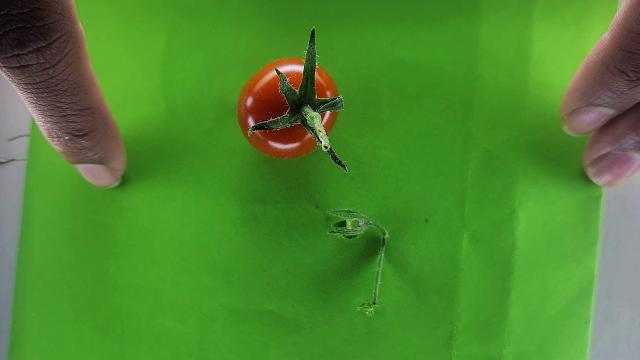Fruit Bud: (331, 219, 363, 239), (345, 218, 361, 230)
Fully Grown: (235, 56, 340, 160)
